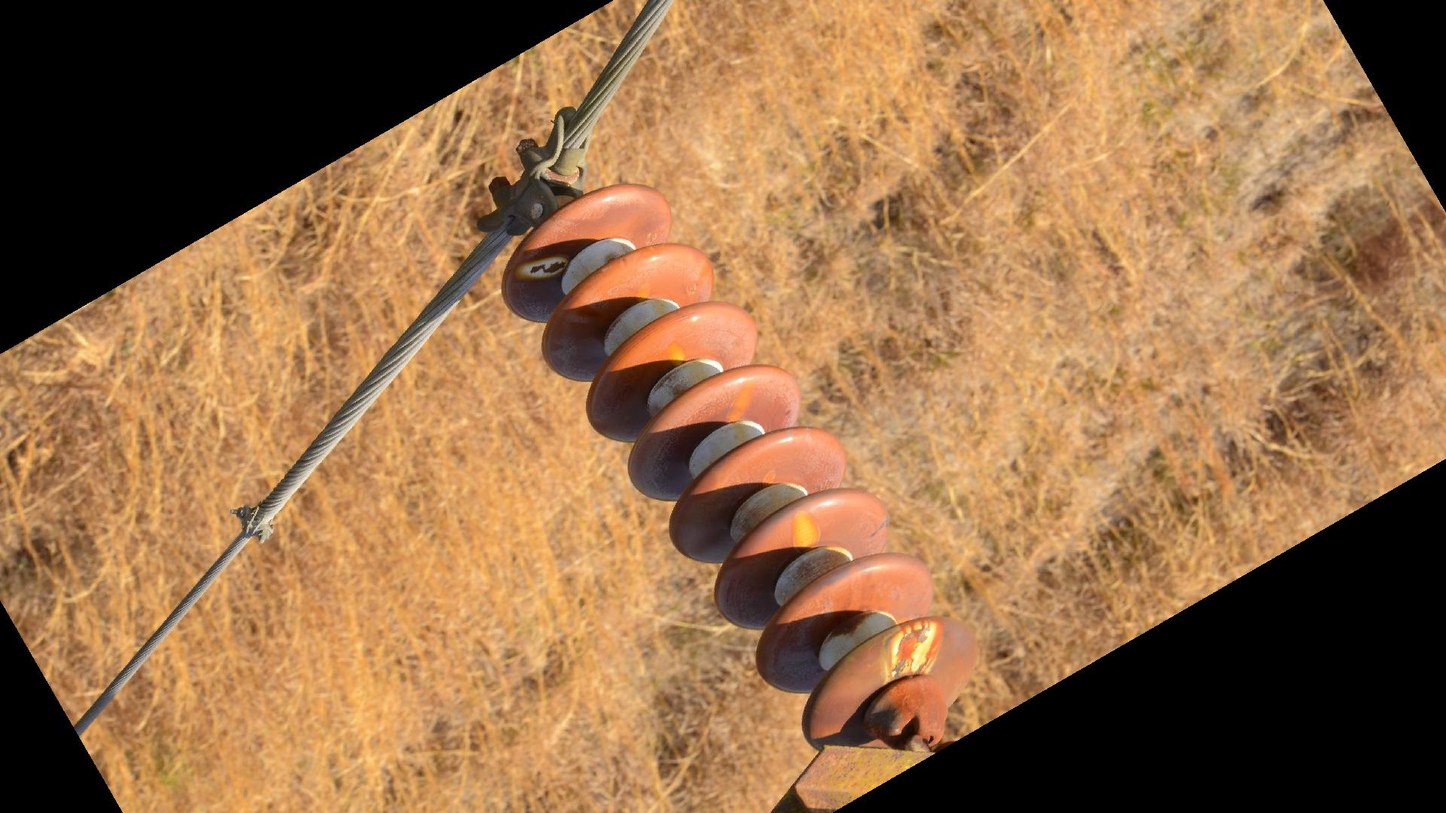insulator: (496, 180, 984, 751)
insulator_flashover: (882, 615, 946, 683), (723, 376, 758, 425), (512, 253, 569, 282), (789, 507, 823, 554)
